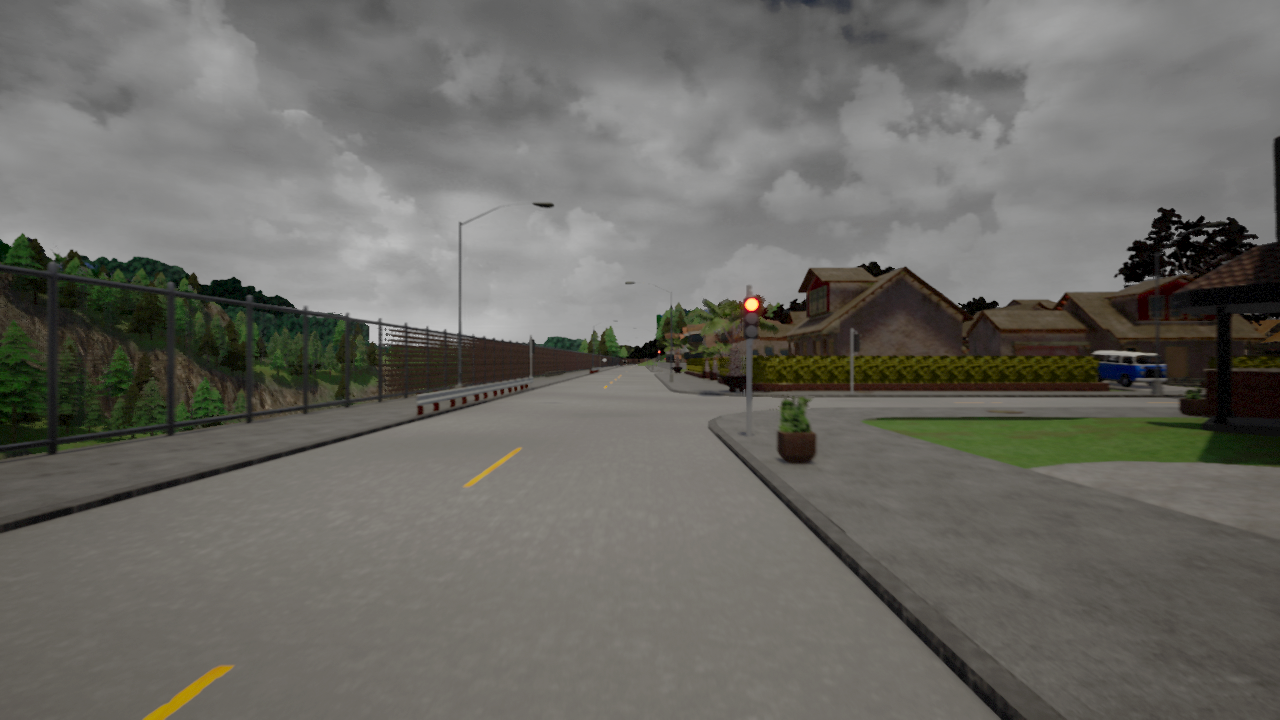red: (742, 296, 762, 340)
